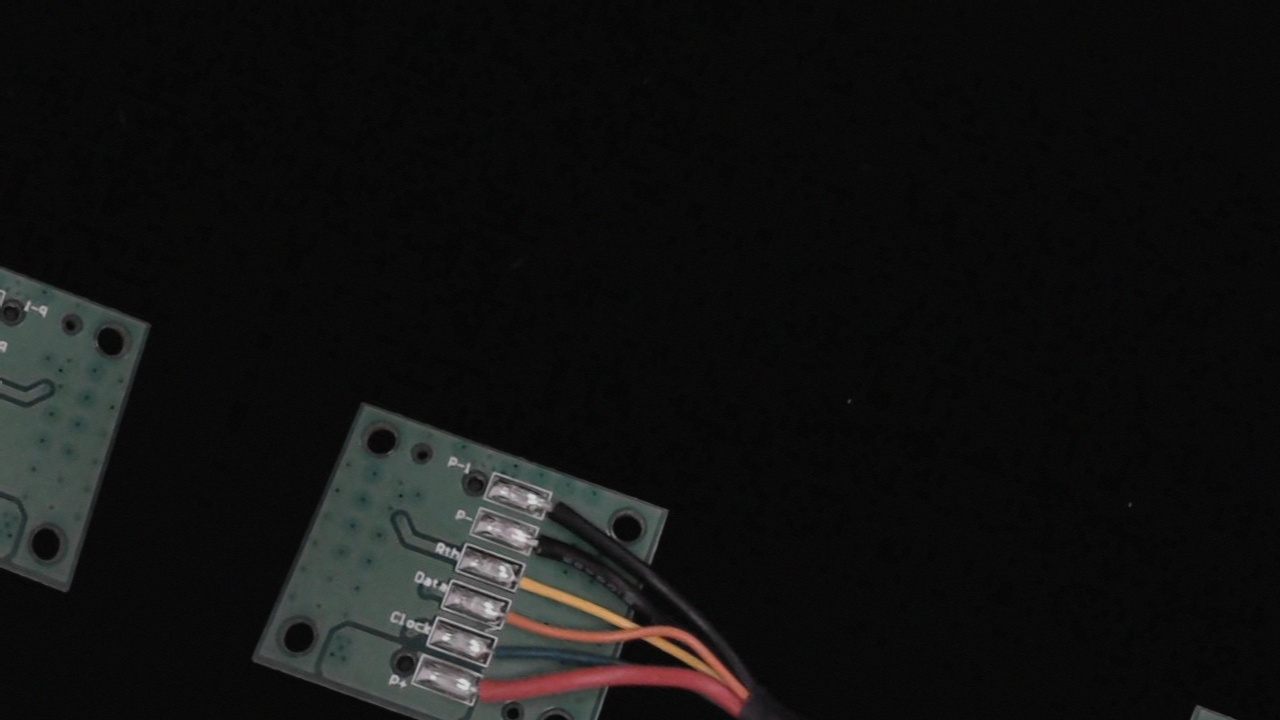Black: (508, 518, 588, 575)
Black1: (524, 482, 598, 536)
Green: (462, 626, 539, 682)
Orange: (480, 593, 559, 648)
Red: (452, 666, 530, 720)
Yellow: (496, 554, 577, 612)
